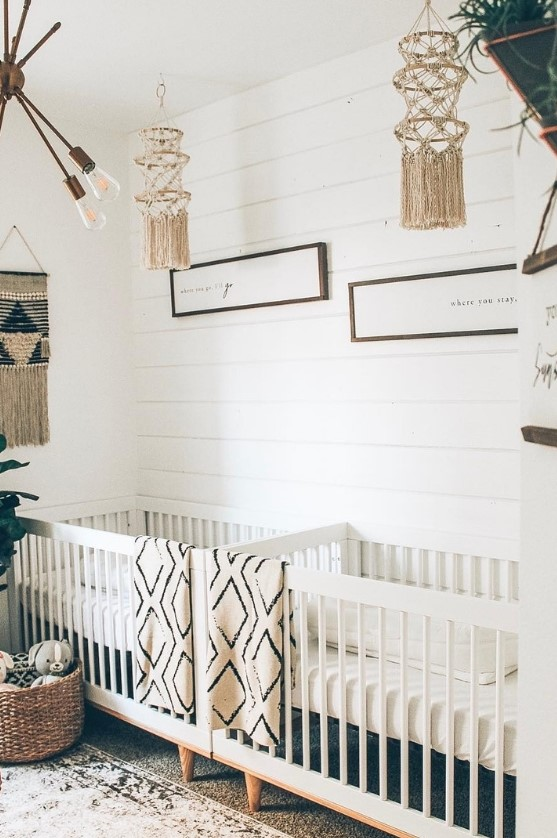crib: (212, 520, 557, 838), (13, 494, 343, 784)
